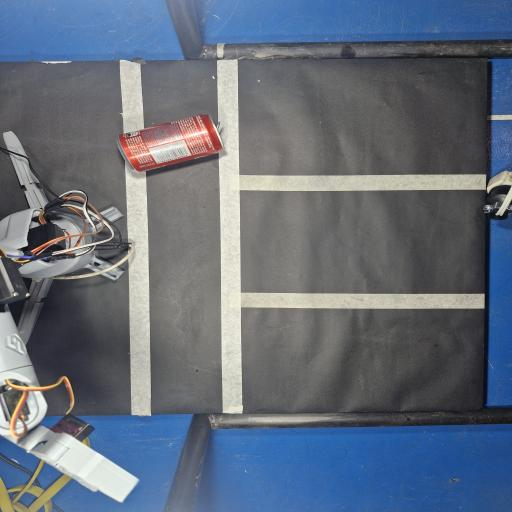lata: (118, 115, 224, 172)
